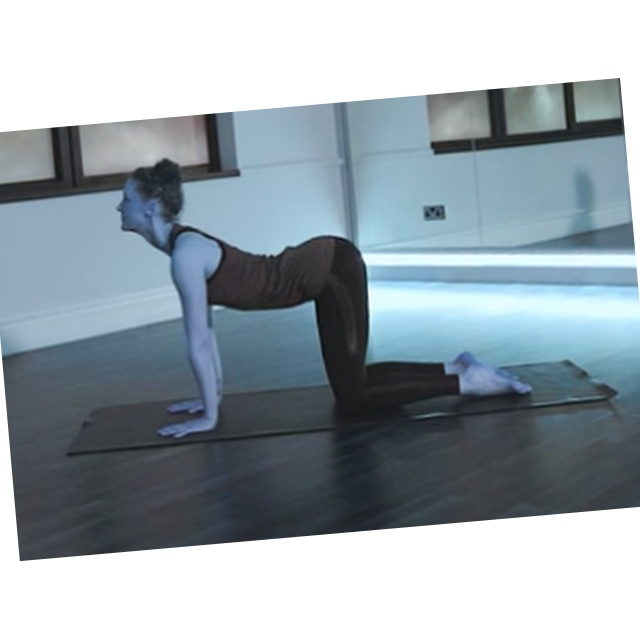Cow_Pose: (113, 154, 534, 443)
